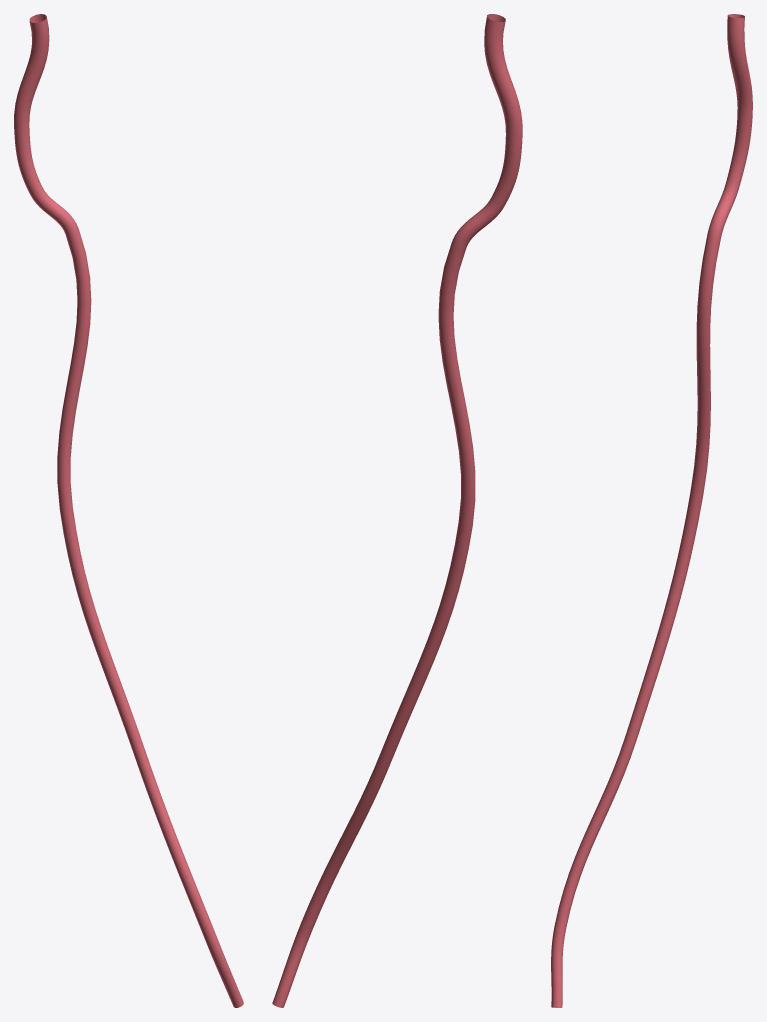
The picture shows the model from 3 angles, left to right: view 1: azimuth 30°, elevation 25°; view 2: azimuth 210°, elevation 25°; view 3: azimuth 270°, elevation 25°; orthographic projection. The views are drawn at different scales.
Parts seen in each view (by area): view 1: ZA_235dcf010807686e; view 2: ZA_235dcf010807686e; view 3: ZA_235dcf010807686e.
Boxes of the visible parts, bbox=[...] form: ZA_235dcf010807686e: bbox=[14, 14, 243, 1007]; ZA_235dcf010807686e: bbox=[272, 14, 522, 1007]; ZA_235dcf010807686e: bbox=[551, 14, 752, 1007].
Bounding box in the file's own units: 0.0339 × 0.231 × 0.0449.
